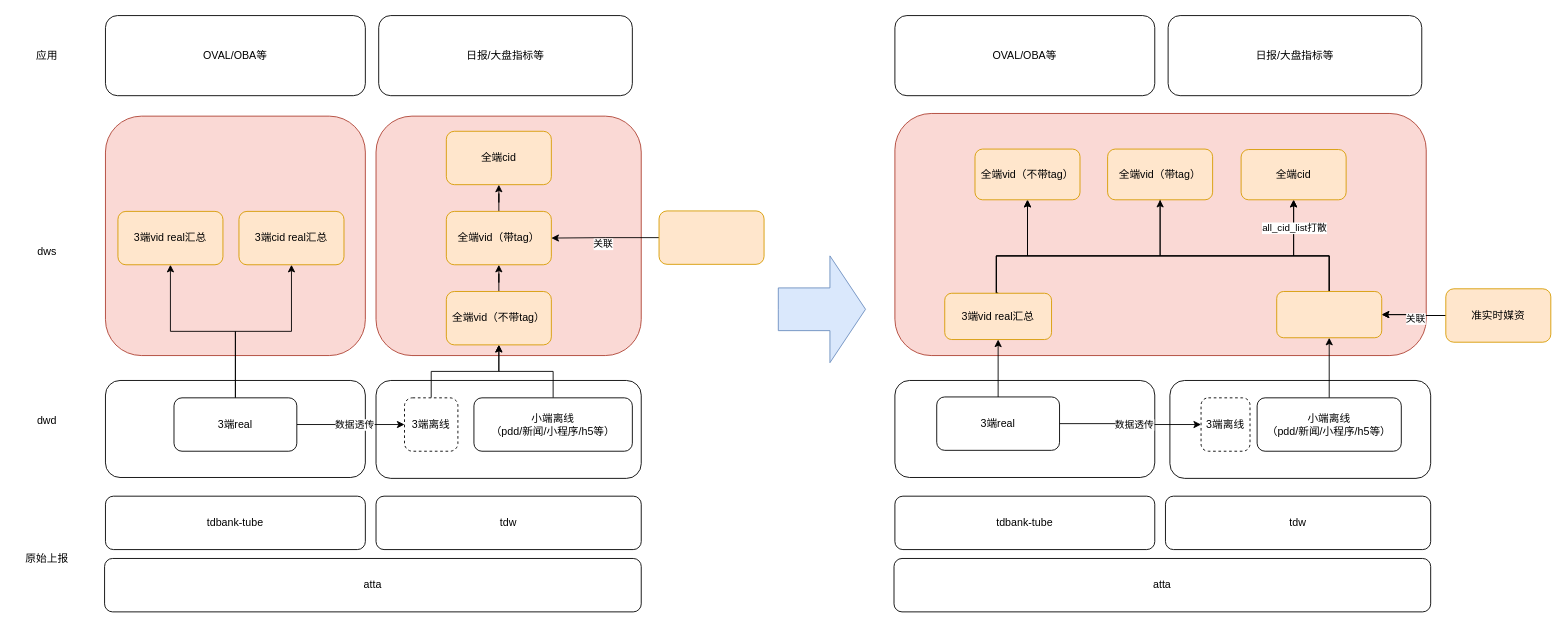
The diagram is 1566 pixels wide and 627 high, and some of its shapes have lost their labels. Here are the shapes that lost their labels. From the top down, the centre of each, then its label:
pixel 711 237: 离线小时媒资
pixel 821 309: 改造方案
pixel 1329 314: 小端离线汇总
